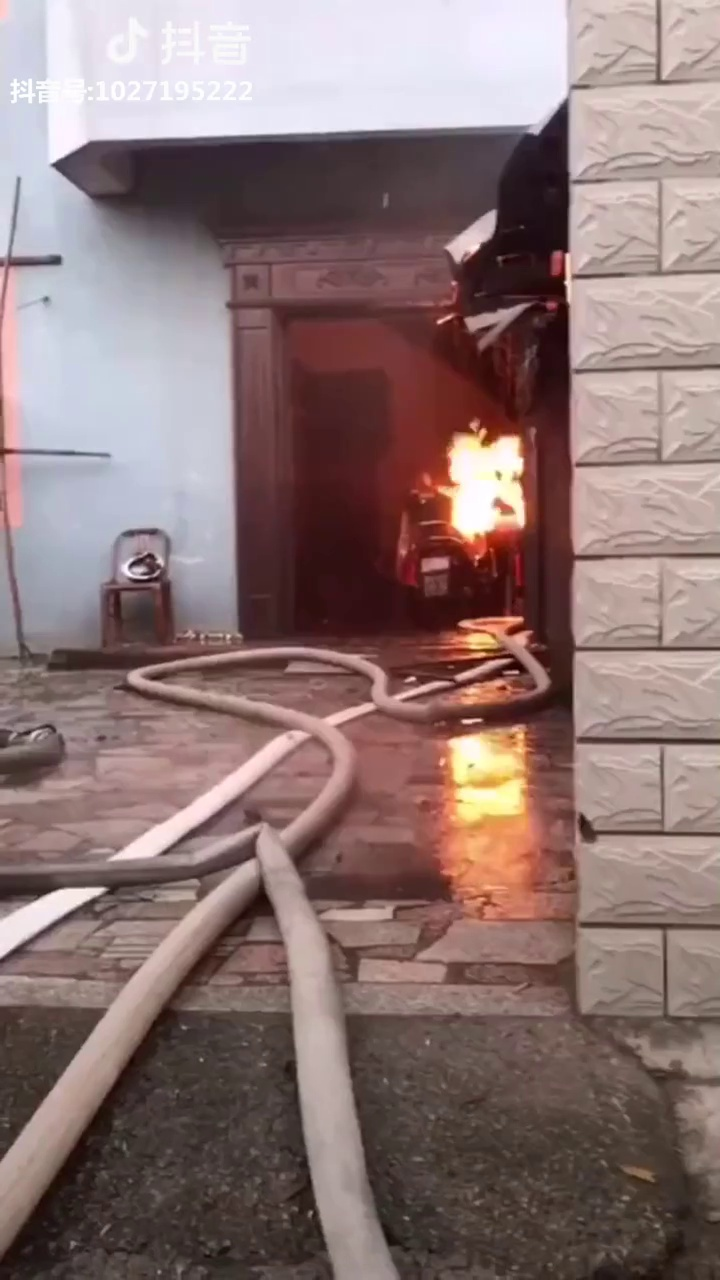fire: (439, 402, 545, 541)
